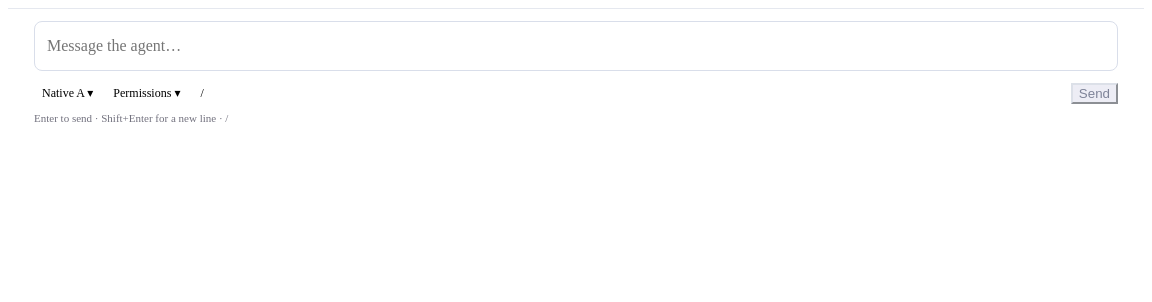
Test: composer provider controls › retains controls and draft while identity is paused, but cannot mutate
This screenshot has width=1152, height=302.
In the text box: (576, 46) [34,21,1118,71], type "/compact"
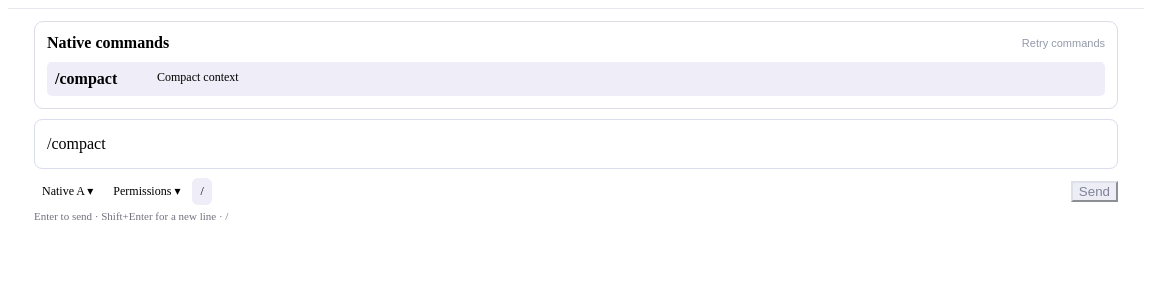
Press Enter in the text box, box [34,119,1118,169]
Click the button "Permissions ▾": (147, 192) [105,178,188,205]
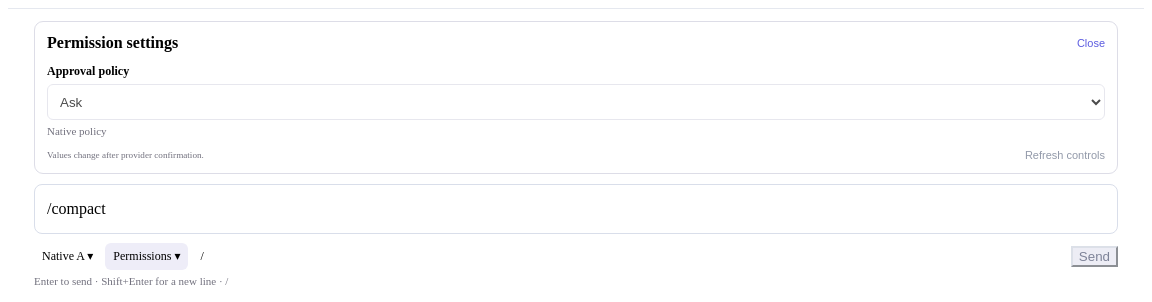
Result: the dropdown is disabled at [47,84,1105,120]
